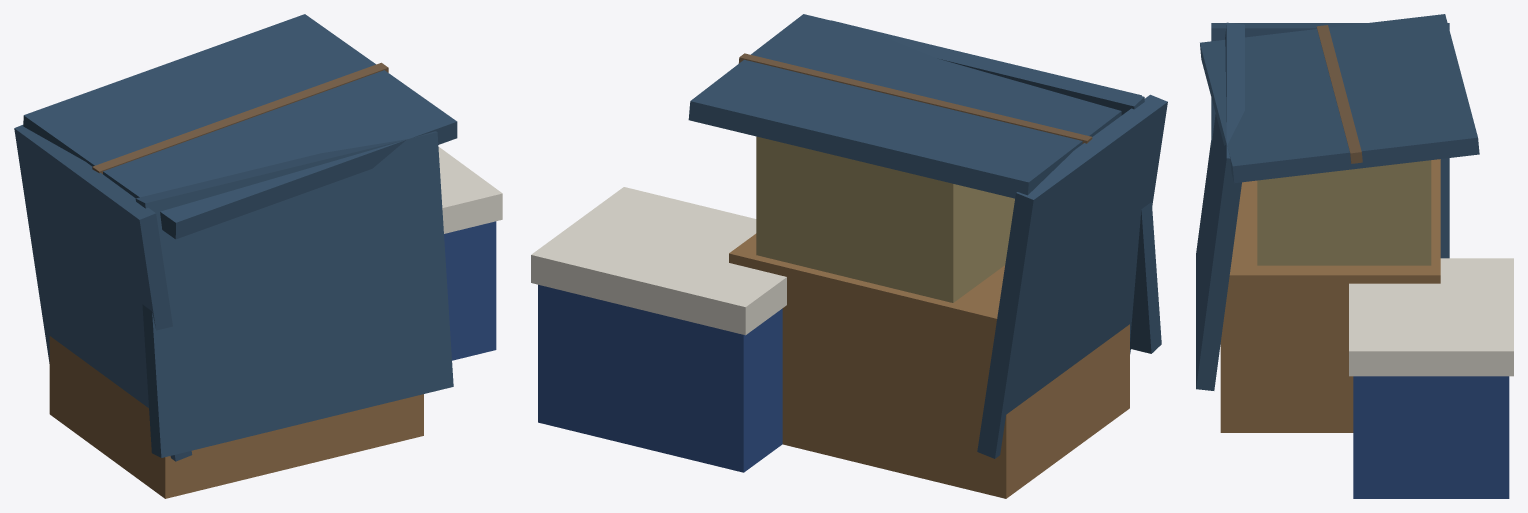
File: camp_stash.glb
The picture shows the model from 3 angles, left to right: view 1: azimuth 30°, elevation 25°; view 2: azimuth 150°, elevation 25°; view 3: azimuth 270°, elevation 25°; orthographic projection. The views are drawn at different scales.
Parts seen in each view (by area): view 1: camp_stash; view 2: camp_stash; view 3: camp_stash.
Part boxes in pixels (x1,y1,x2,y2): camp_stash: (14, 14, 502, 498); camp_stash: (531, 14, 1167, 498); camp_stash: (1196, 14, 1513, 498).
Size of what is drawn, in the model's own units: 1.04 by 0.7295 by 0.6934.
3 materials, 3 textured.
